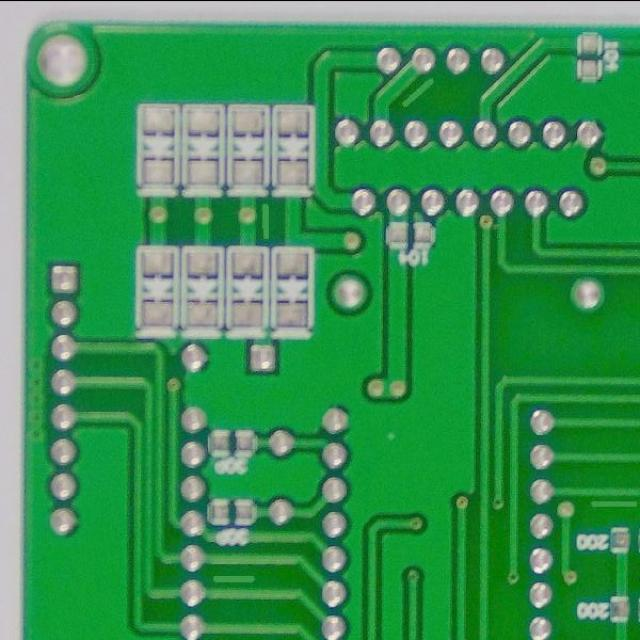Spurious_Cooper: (394, 70, 442, 112), (209, 570, 261, 586), (587, 498, 639, 512), (257, 200, 274, 241)
